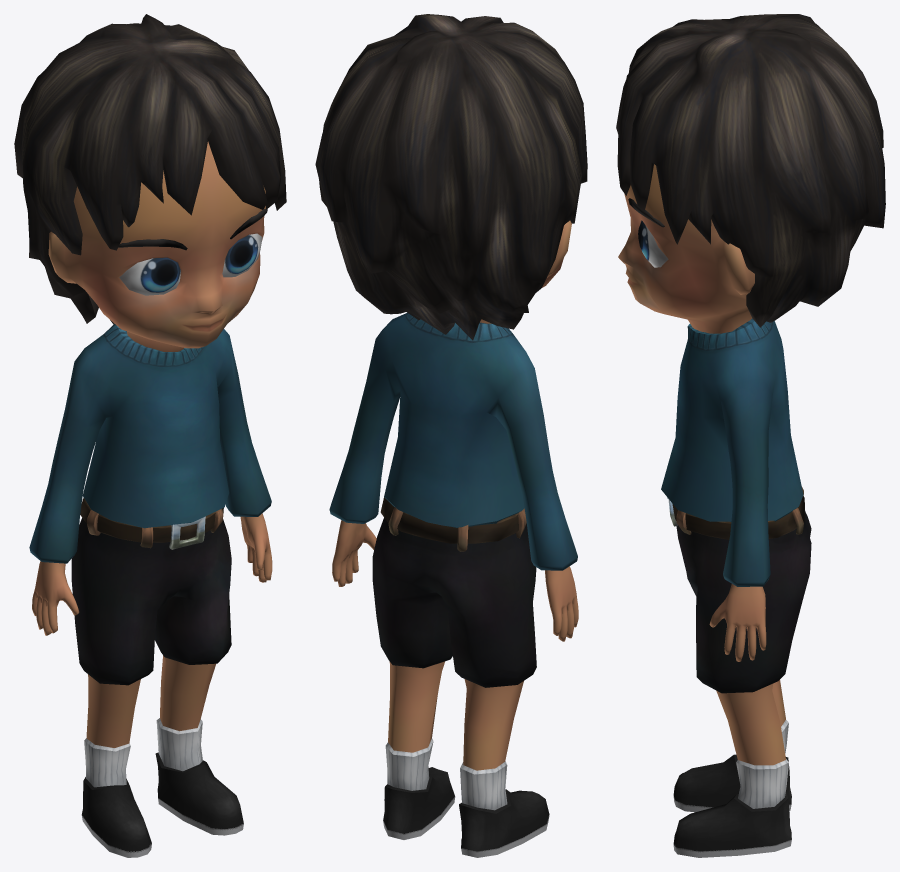
The model's file is boyy.glb.
3 renders of one model, left to right at view 1: azimuth 30°, elevation 25°; view 2: azimuth 150°, elevation 25°; view 3: azimuth 270°, elevation 25°, orthographic. The views are drawn at different scales.
Visible parts, largest first — view 1: skin_08 - Default_0; view 2: skin_08 - Default_0; view 3: skin_08 - Default_0.
Boxes of the visible parts, x1=… form: skin_08 - Default_0: x1=14, y1=14, x2=286, y2=857; skin_08 - Default_0: x1=315, y1=14, x2=587, y2=857; skin_08 - Default_0: x1=616, y1=14, x2=885, y2=857.
Size of the model in its own units: 15.92 by 51.59 by 15.71.
1 material, 1 textured.
